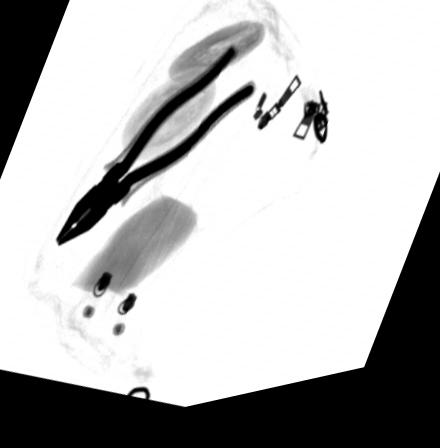Pliers: (53, 53, 256, 250)
